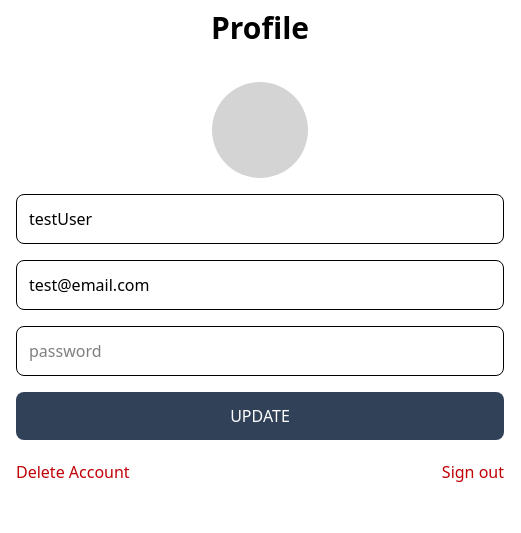
Test case: Profile Page › should Successfully Update and show the Updated Info
This screenshot has width=521, height=533.
# Clear the existing value
Replace the text in the 2nd field with placeholder "email" with "test123@email.com" at (260, 285), box [16,260,504,310]
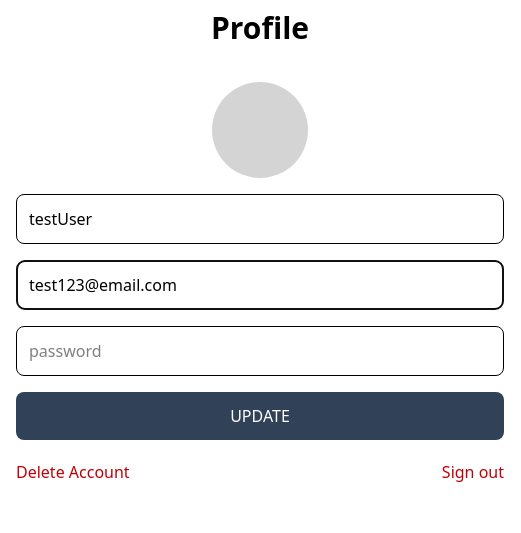
# Click Update button
Click the button "Update" at (260, 416), box [16,392,504,440]
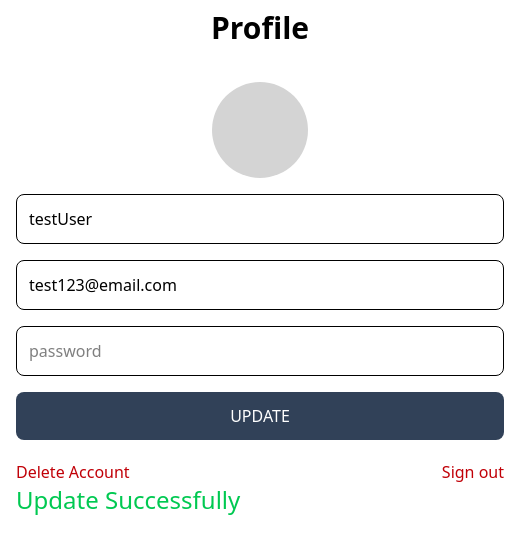
Expected: the password field with placeholder "password" is empty, [16,326,504,376]
Expected: the text "Update Successfully" is shown, [16,483,240,516]
